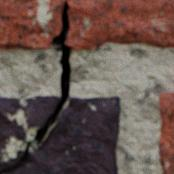brick: (158, 91, 173, 173)
broken_brick: (0, 95, 120, 173), (0, 0, 173, 49), (0, 94, 60, 169)
crack: (0, 1, 72, 171)
